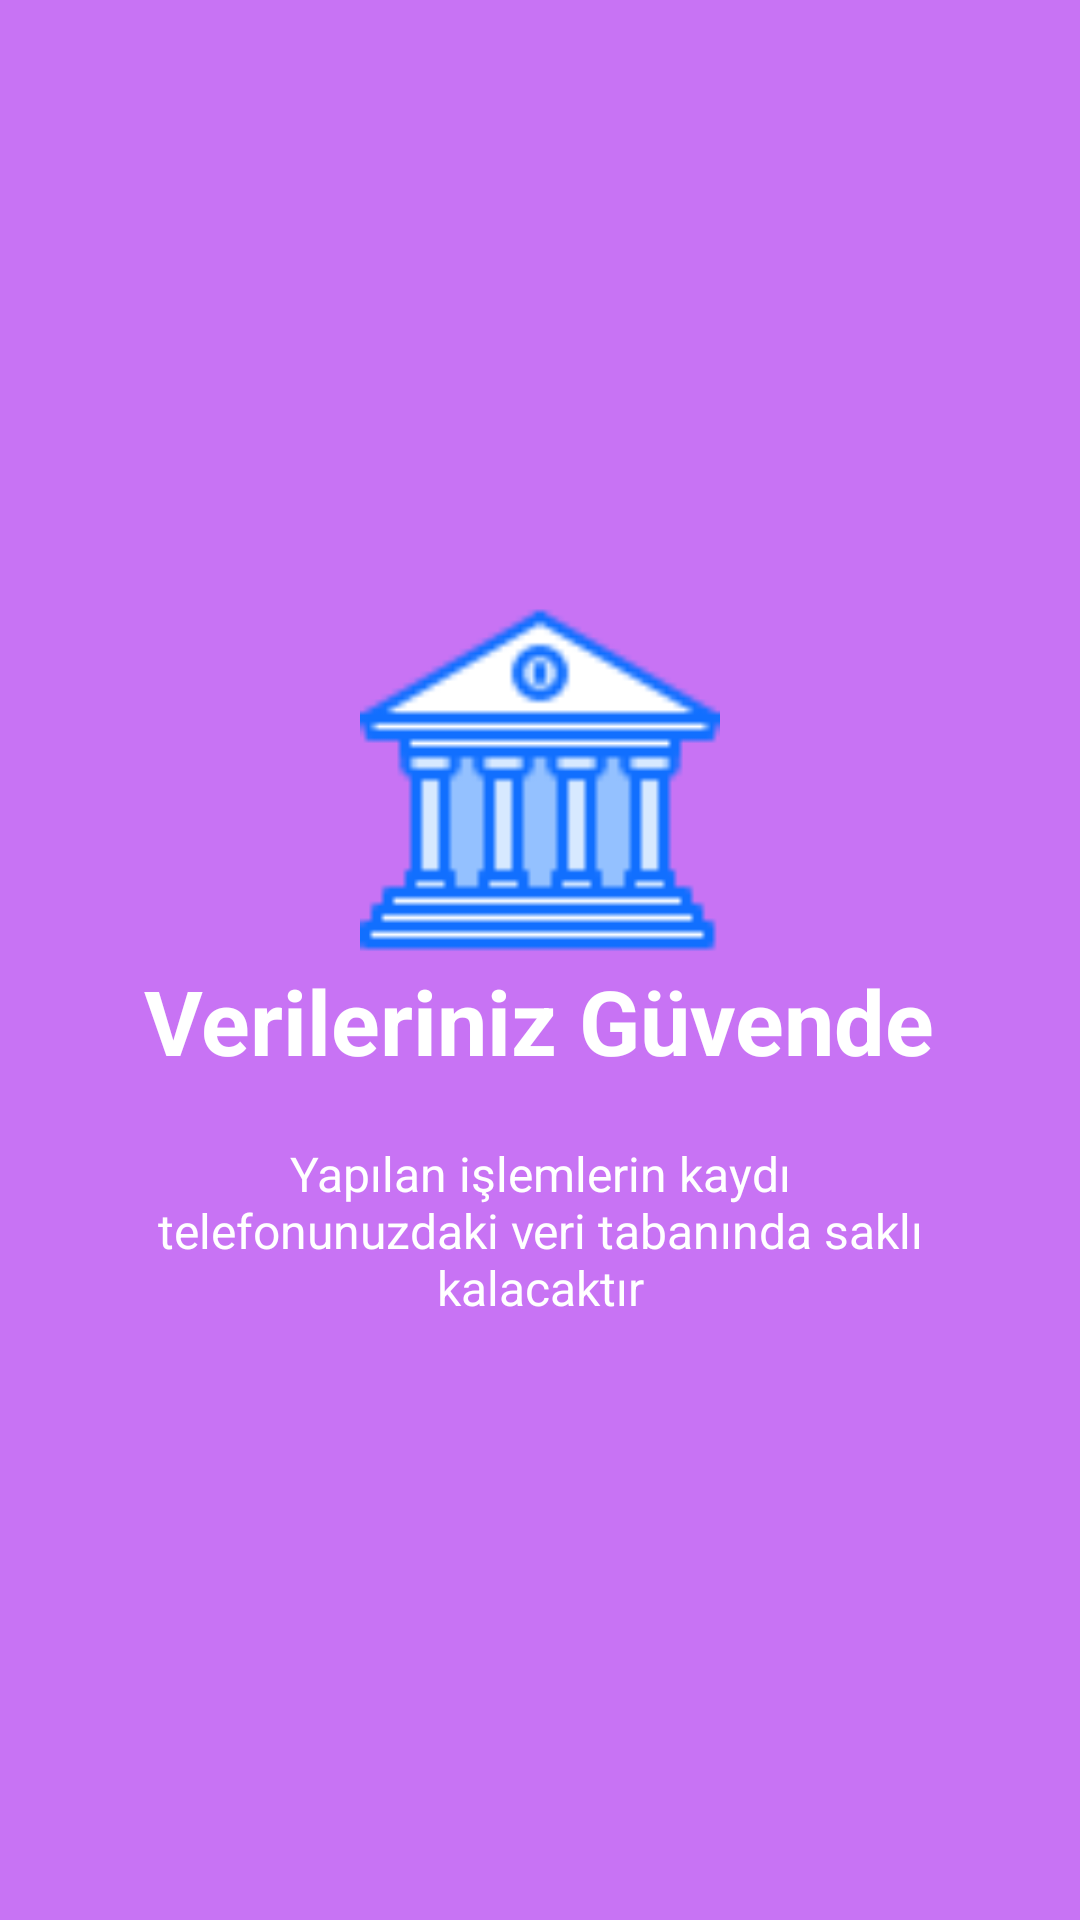

Locate icon controls on the screen. Image size 1080 x 1920, boxes as {"x1": x1, "y1": y1, "x2": x2, "y2": y2}.
banking: {"x1": 360, "y1": 609, "x2": 720, "y2": 951}
